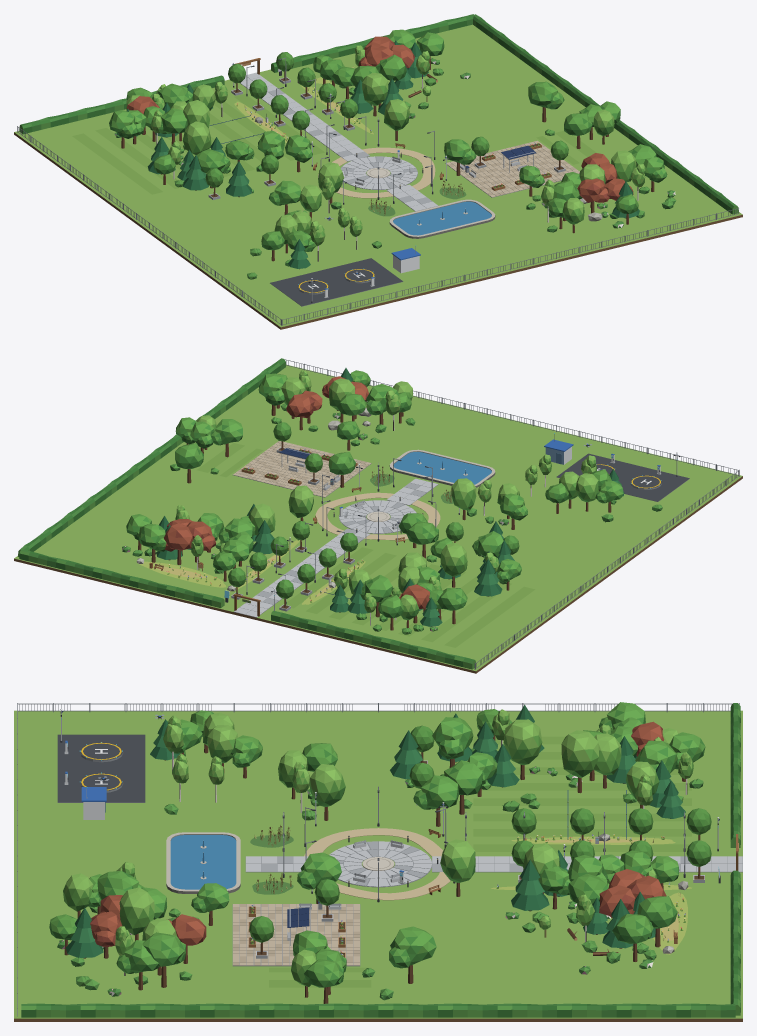
File: Park_Level2_Balanced.fbx
3 views of the same model, one above another, from view 1: azimuth 30°, elevation 25°; view 2: azimuth 150°, elevation 25°; view 3: azimuth 270°, elevation 25° (orthographic). The views are drawn at different scales.
Parts seen in each view (by area): view 1: Park_LV_Ground_01, Park_LV_Pond_Formal_Water_01, Park_LV_Plaza_Ring, Park_LV_Yard_Core_02, Park_LV_Yard_Core_01, Park_LV_Lawn_SouthEast_01, Park_LV_Lawn_SouthEast_05, Park_LV_Rest_North_06, Park_LV_Pond_Formal_01, Park_LV_Tree_Oak_45, Park_LV_Rest_North_05, Park_LV_Lawn_SouthEast_06 (+26 smaller); view 2: Park_LV_Ground_01, Park_LV_Pond_Formal_Water_01, Park_LV_Plaza_Ring, Park_LV_Yard_Core_02, Park_LV_Lawn_SouthEast_05, Park_LV_Rest_North_03, Park_LV_Meadow_Strip, Park_LV_Lawn_SouthEast_06, Park_LV_Rest_North_05, Park_LV_Lawn_SouthEast_01, Park_LV_Lawn_SouthEast_02, Park_LV_Tree_Linden_15 (+29 smaller); view 3: Park_LV_Ground_01, Park_LV_Pond_Formal_Water_01, Park_LV_Plaza_Ring, Park_LV_Yard_Core_02, Park_LV_Yard_Core_01, Park_LV_Lawn_SouthEast_02, Park_LV_Lawn_SouthEast_01, Park_LV_Rest_North_04, Park_LV_Tree_Oak_45, Park_LV_Tree_Linden_11, Park_LV_Tree_Linden_15, Park_LV_Lawn_SouthEast_04 (+70 smaller).
Boxes of the visible parts, x1,y1,x2,y2 form: Park_LV_Ground_01: (14, 24, 742, 329); Park_LV_Pond_Formal_Water_01: (393, 201, 491, 235); Park_LV_Plaza_Ring: (340, 156, 417, 189); Park_LV_Yard_Core_02: (270, 270, 352, 306); Park_LV_Yard_Core_01: (321, 258, 403, 293); Park_LV_Lawn_SouthEast_01: (209, 94, 278, 137); Park_LV_Lawn_SouthEast_05: (72, 128, 155, 165); Park_LV_Rest_North_06: (468, 169, 533, 197); Park_LV_Pond_Formal_01: (389, 199, 495, 238); Park_LV_Tree_Oak_45: (528, 81, 564, 122); Park_LV_Rest_North_05: (445, 152, 513, 180); Park_LV_Lawn_SouthEast_06: (112, 157, 182, 194); Park_LV_Ground_01: (14, 364, 742, 673); Park_LV_Pond_Formal_Water_01: (393, 452, 491, 484); Park_LV_Plaza_Ring: (339, 500, 416, 533); Park_LV_Yard_Core_02: (619, 466, 689, 501); Park_LV_Lawn_SouthEast_05: (403, 609, 494, 647); Park_LV_Rest_North_03: (233, 457, 301, 486); Park_LV_Meadow_Strip: (138, 561, 226, 587); Park_LV_Lawn_SouthEast_06: (461, 580, 535, 618); Park_LV_Rest_North_05: (279, 469, 348, 497); Park_LV_Lawn_SouthEast_01: (286, 577, 351, 619); Park_LV_Lawn_SouthEast_02: (328, 547, 399, 582); Park_LV_Tree_Linden_15: (440, 543, 467, 587); Park_LV_Ground_01: (14, 710, 742, 1021); Park_LV_Pond_Formal_Water_01: (170, 835, 236, 889); Park_LV_Plaza_Ring: (329, 841, 432, 887); Park_LV_Yard_Core_02: (57, 734, 145, 768); Park_LV_Yard_Core_01: (57, 768, 145, 802); Park_LV_Lawn_SouthEast_02: (473, 813, 581, 851); Park_LV_Lawn_SouthEast_01: (583, 813, 691, 851); Park_LV_Rest_North_04: (232, 935, 295, 966); Park_LV_Tree_Oak_45: (389, 926, 436, 983); Park_LV_Tree_Linden_11: (561, 730, 598, 793); Park_LV_Tree_Linden_15: (503, 719, 542, 779); Park_LV_Lawn_SouthEast_04: (473, 772, 582, 805).
Size of the model in its own units: 100 by 9.9 by 100.
